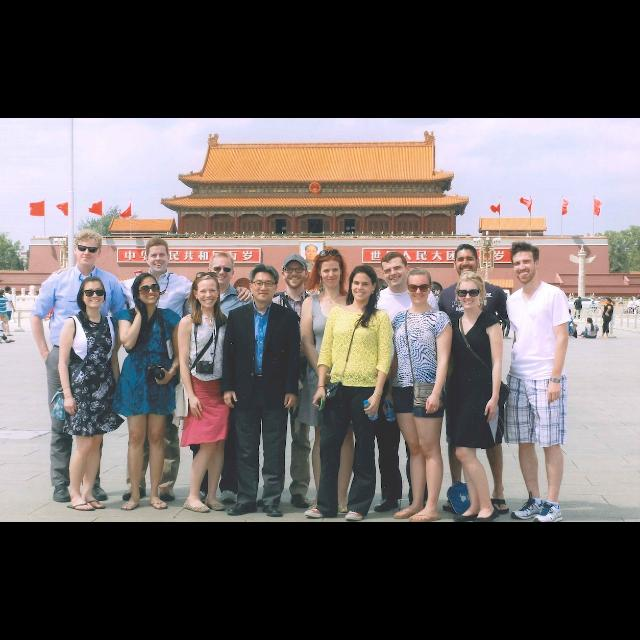head: (510, 244, 540, 284), (382, 252, 412, 290), (192, 274, 222, 310), (250, 266, 280, 302), (350, 264, 378, 302), (319, 250, 345, 290), (74, 231, 102, 267), (456, 274, 484, 310), (453, 243, 481, 279), (408, 268, 434, 306), (207, 251, 235, 285), (145, 238, 171, 274), (280, 259, 310, 289), (134, 272, 160, 306), (81, 278, 107, 310), (604, 298, 612, 306), (5, 286, 12, 294), (0, 290, 6, 298), (0, 316, 6, 322), (587, 318, 593, 324), (568, 310, 572, 314), (578, 298, 582, 300)
person: (48, 236, 256, 504), (29, 228, 131, 508), (155, 252, 255, 508), (218, 262, 304, 520), (358, 250, 442, 514), (434, 242, 512, 518), (252, 251, 330, 511), (296, 247, 368, 516), (47, 274, 126, 514), (109, 271, 185, 514), (170, 270, 240, 514), (599, 298, 617, 340), (0, 285, 16, 332), (0, 289, 14, 337), (558, 308, 578, 339), (578, 317, 600, 339), (574, 296, 582, 320), (0, 315, 6, 345)
